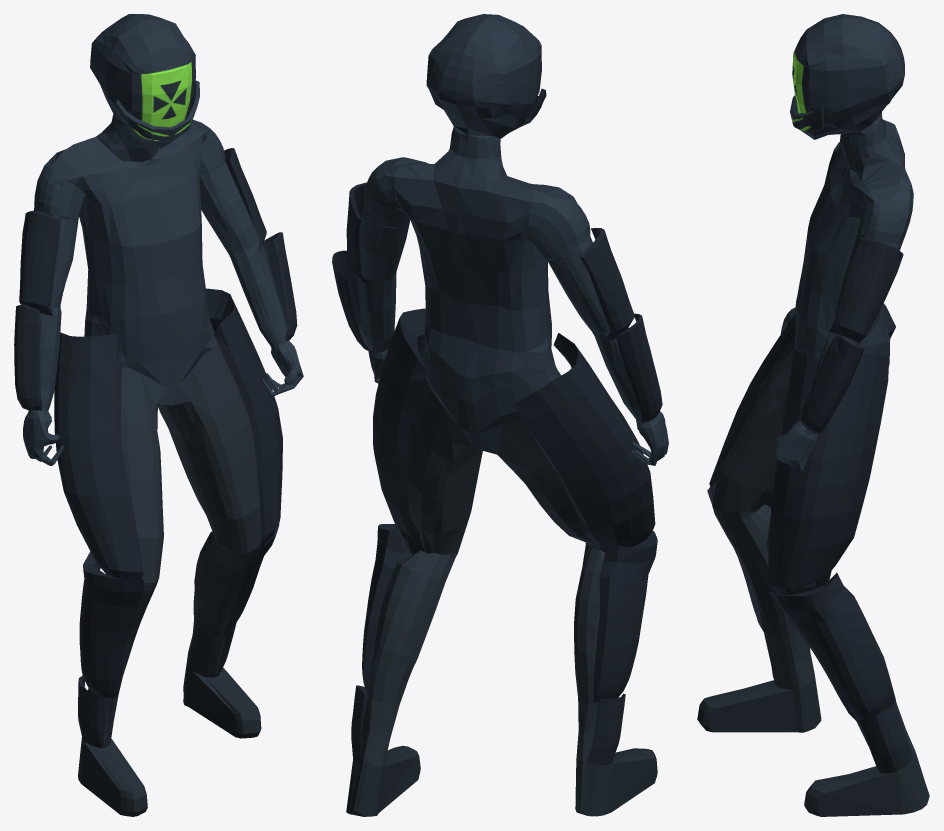
File: Bastion_Stun_Recover_000003.obj
3 renders of one model, left to right at view 1: azimuth 30°, elevation 25°; view 2: azimuth 150°, elevation 25°; view 3: azimuth 270°, elevation 25°, orthographic. The views are drawn at different scales.
Parts seen in each view (by area): view 1: Cube.002; view 2: Cube.002; view 3: Cube.002.
Boxes of the visible parts, x1,y1,x2,y2 form: Cube.002: [14, 14, 303, 816]; Cube.002: [332, 14, 668, 816]; Cube.002: [697, 14, 929, 816].
Bounding box in the file's own units: 1.52 × 3.73 × 1.05.
